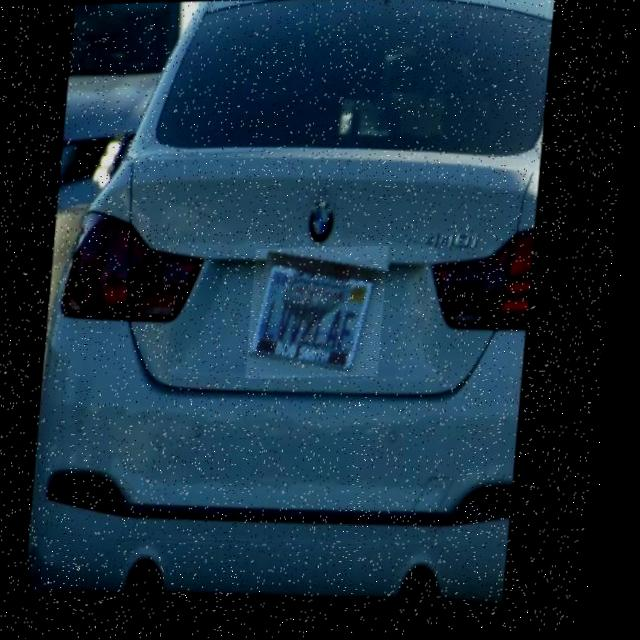LicensePlate: (251, 246, 396, 379)
